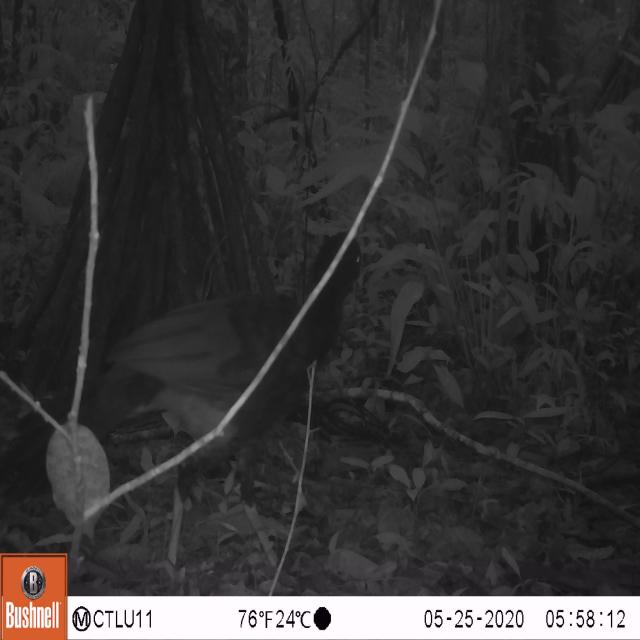Salvins Curassow: (0, 216, 369, 526)
